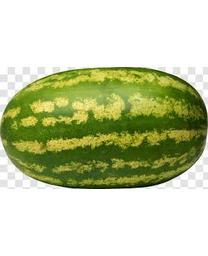watermelon: (1, 68, 206, 189)
